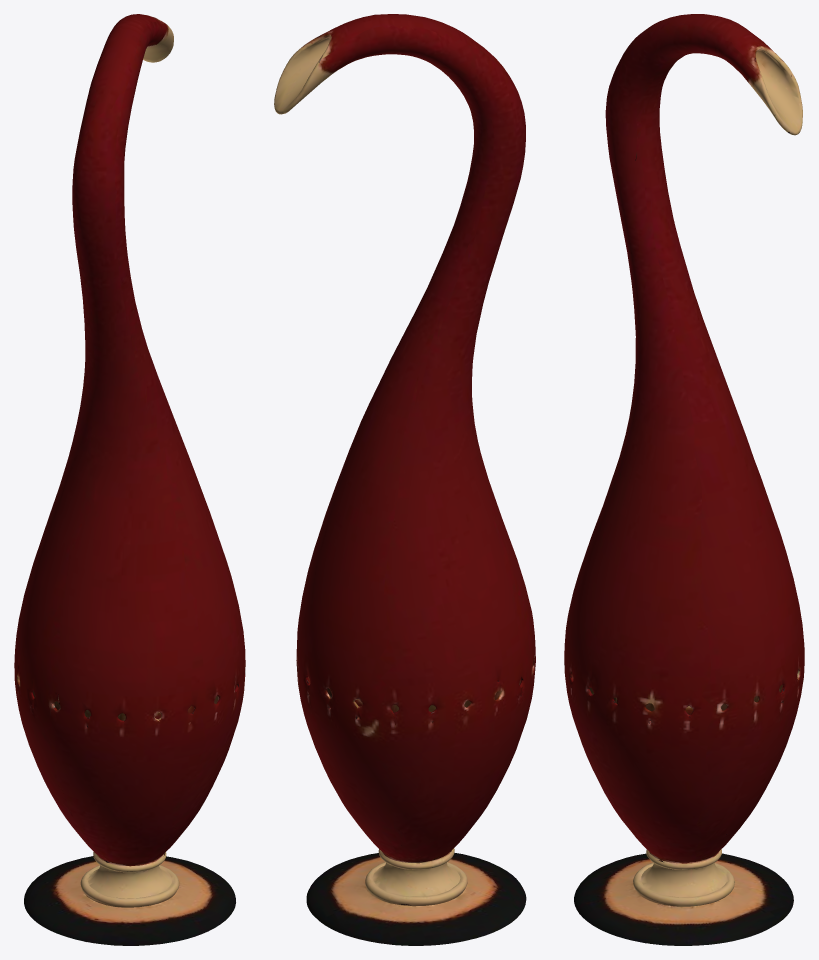
The model's file is NX-10_vase_game.glb.
3 views of the same model, side by side, from view 1: azimuth 30°, elevation 25°; view 2: azimuth 150°, elevation 25°; view 3: azimuth 270°, elevation 25° (orthographic). The views are drawn at different scales.
Parts seen in each view (by area): view 1: NX-10_vase; view 2: NX-10_vase; view 3: NX-10_vase.
Part boxes in pixels (x1=…): NX-10_vase: x1=14, y1=14, x2=245, y2=945; NX-10_vase: x1=274, y1=14, x2=535, y2=945; NX-10_vase: x1=564, y1=14, x2=804, y2=945.
Bounding box in the file's own units: 0.1021 × 0.42 × 0.1029.
1 material, 1 textured.
